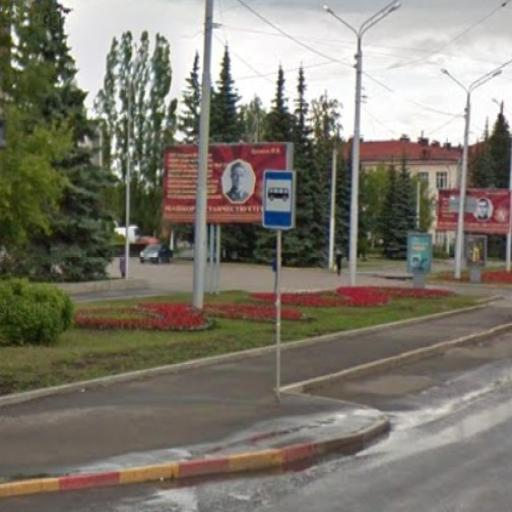traffic_sign: (261, 168, 298, 233)
